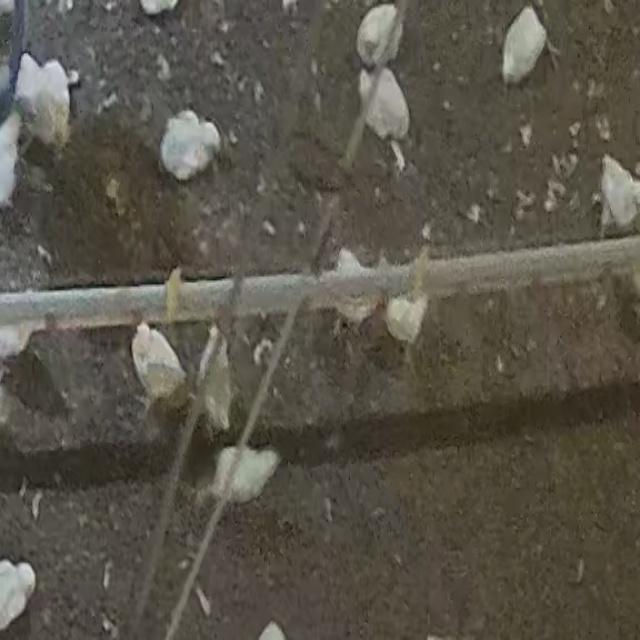chicken: (12, 54, 74, 150), (192, 316, 232, 435), (160, 109, 223, 181), (208, 442, 281, 503), (359, 65, 413, 145), (130, 314, 184, 394), (501, 4, 548, 85), (600, 155, 640, 232)
